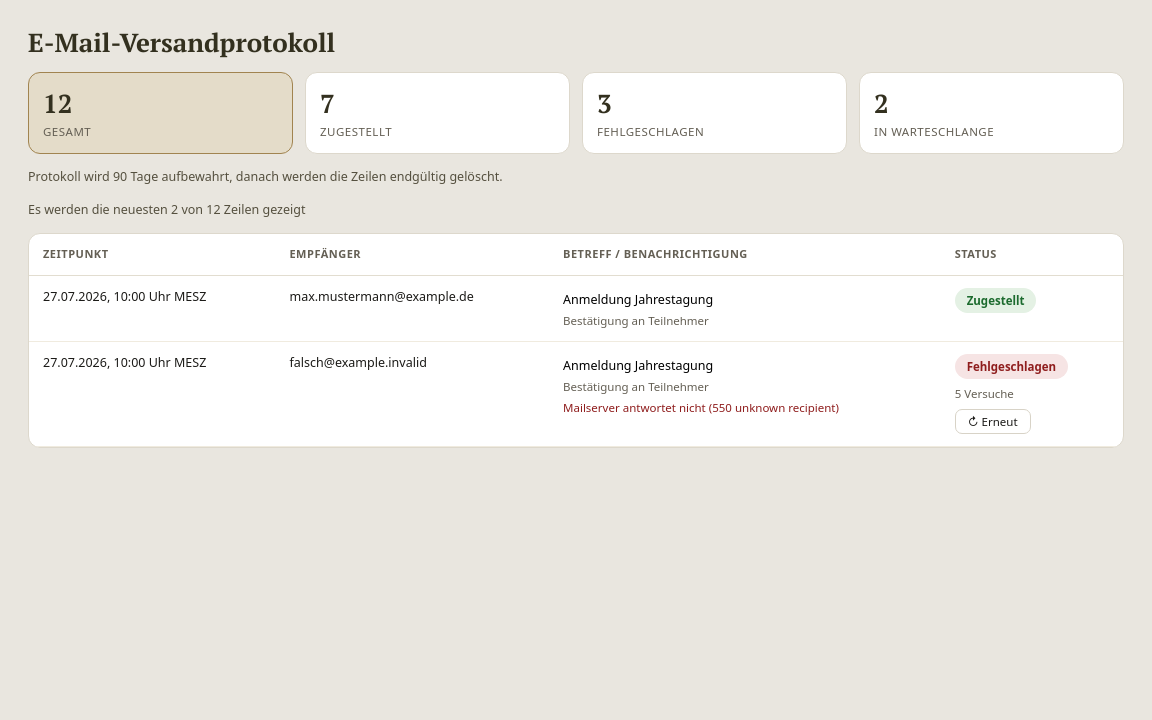
Test: MailLogView › the detail panel › shows the text body as a <pre> when there is no HTML alternative
Expected: the heading "E-Mail-Versandprotokoll" is shown, top-left (28, 28), bottom-right (335, 58)
Click the button "Anmeldung Jahrestagung" next to "max.mustermann@example.de".
click(638, 300)  # box top-left (563, 288), bottom-right (713, 312)
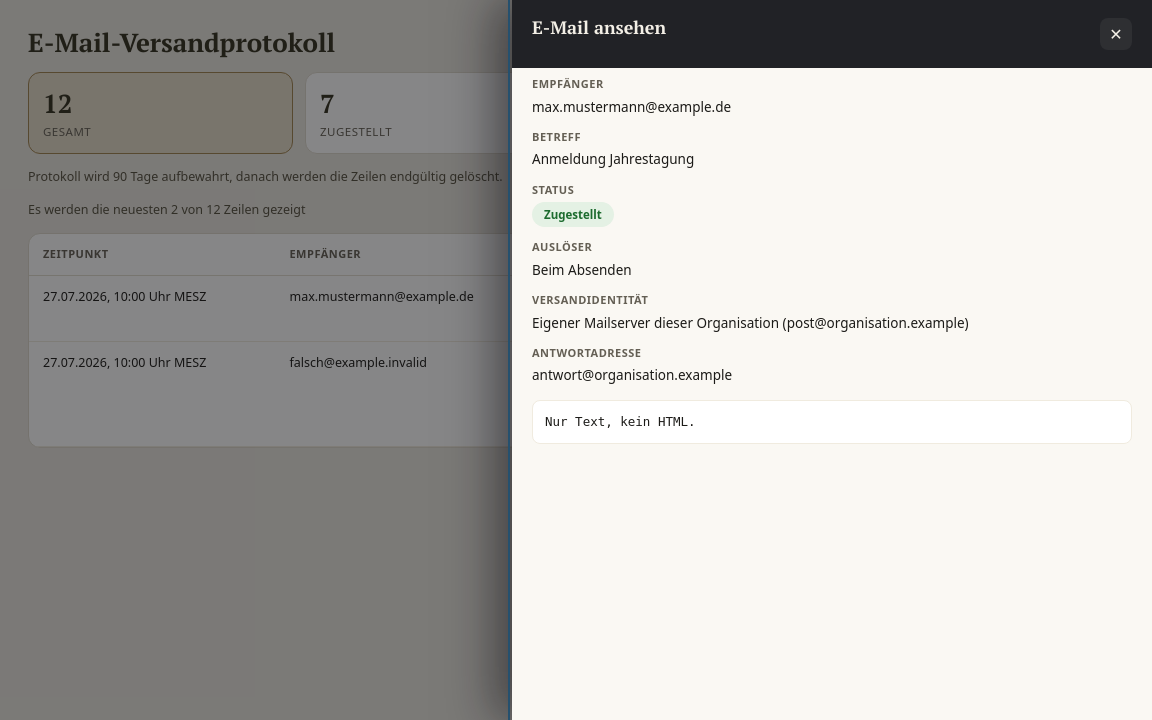
Now the text with test id "mail-log-body-text" reads "Nur Text, kein HTML.", box top-left (545, 414), bottom-right (696, 428)
